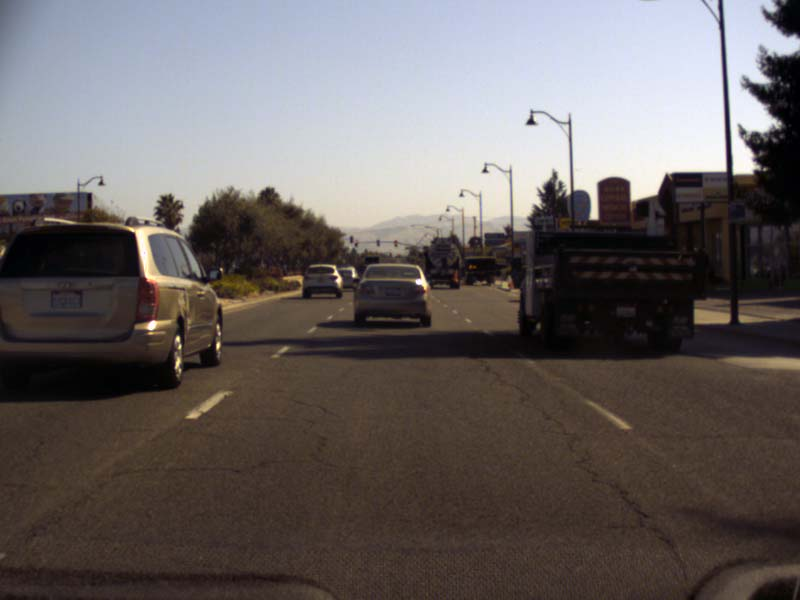Red: (354, 240, 357, 245)
Yellow: (394, 240, 397, 245)
